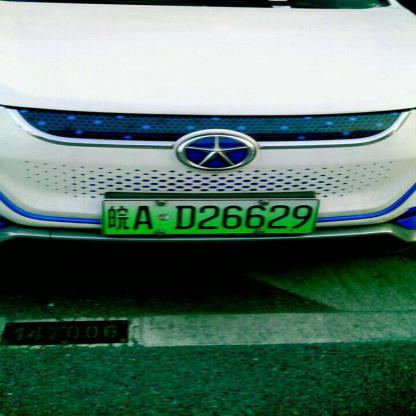lp: (100, 198, 320, 236)
